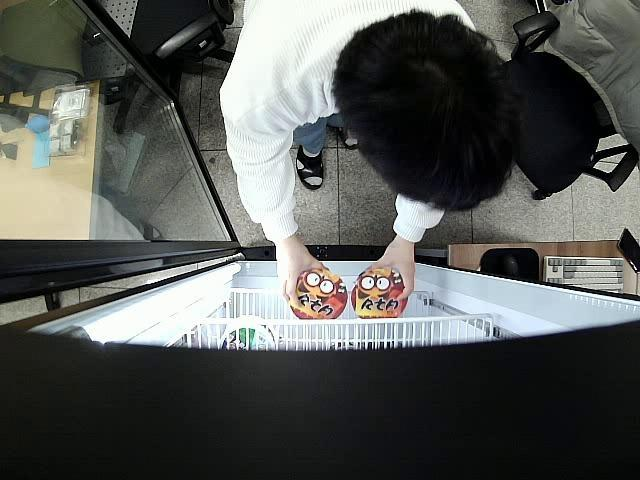05_nuguri_L: (286, 264, 346, 320), (352, 266, 408, 316)
